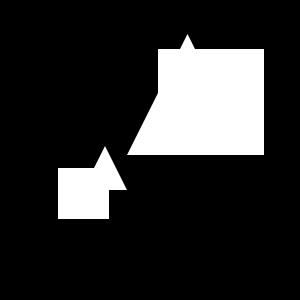circle: (158, 49, 264, 155), (58, 168, 109, 219)
triangle: (127, 34, 248, 155), (83, 146, 127, 190)
